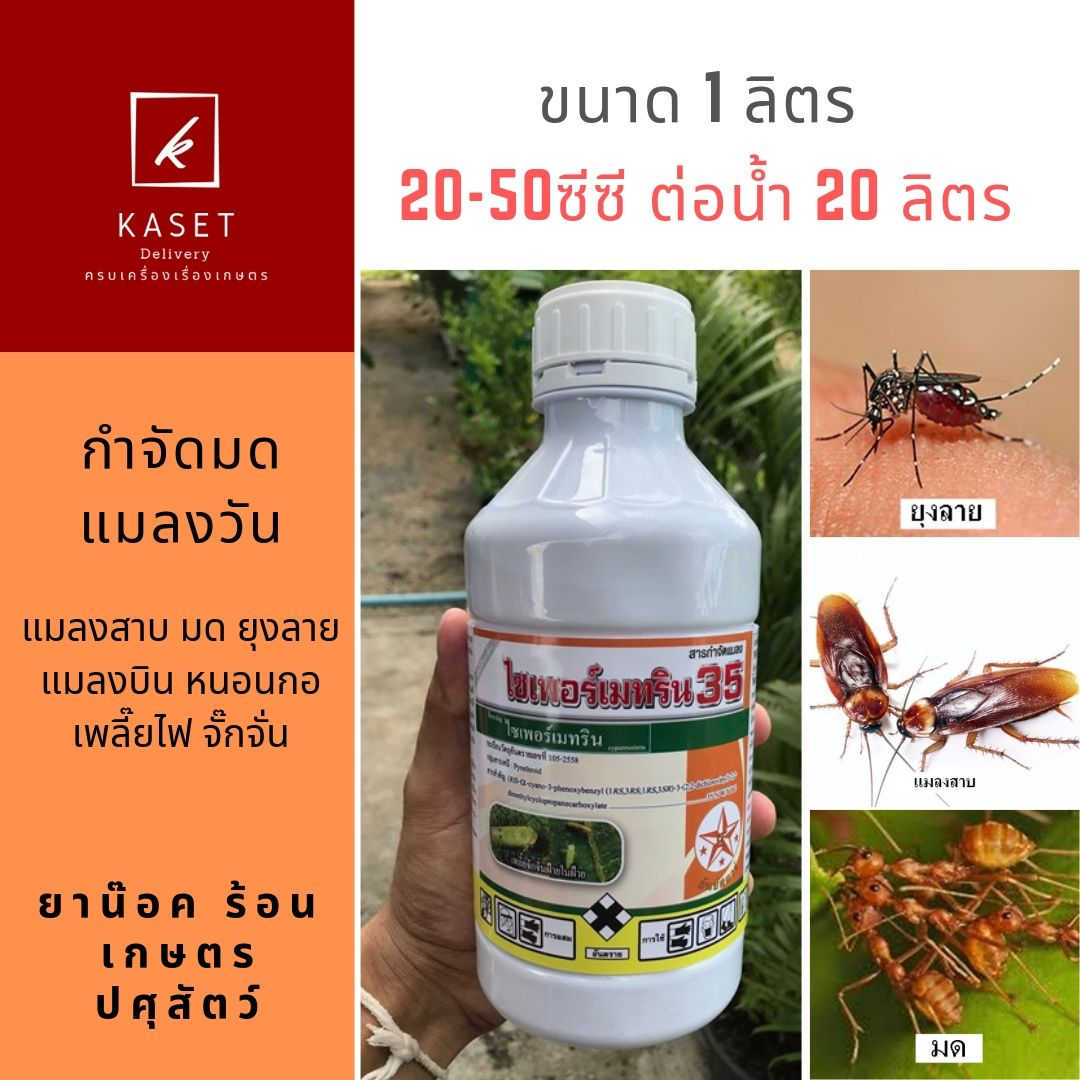Insecticide: (455, 275, 771, 1056)
